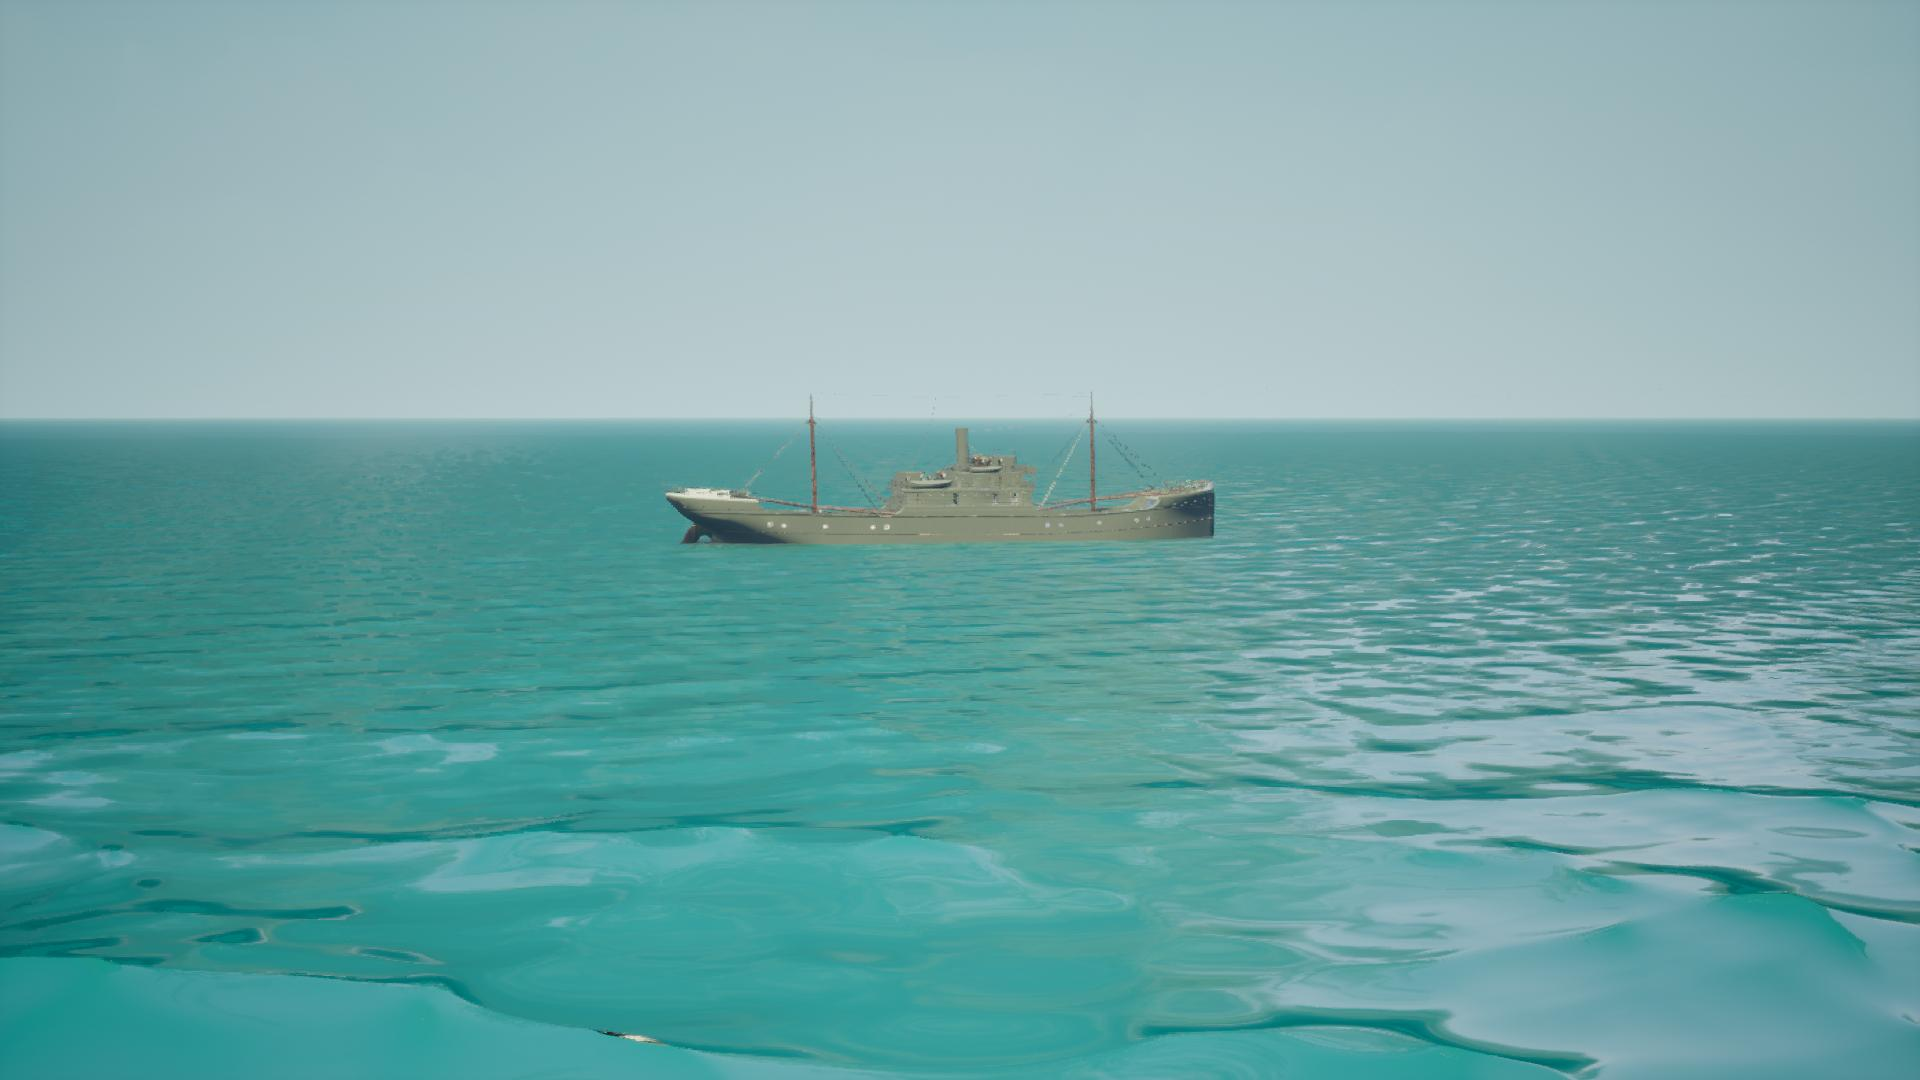Fishing Boat: (670, 398, 1220, 546)
